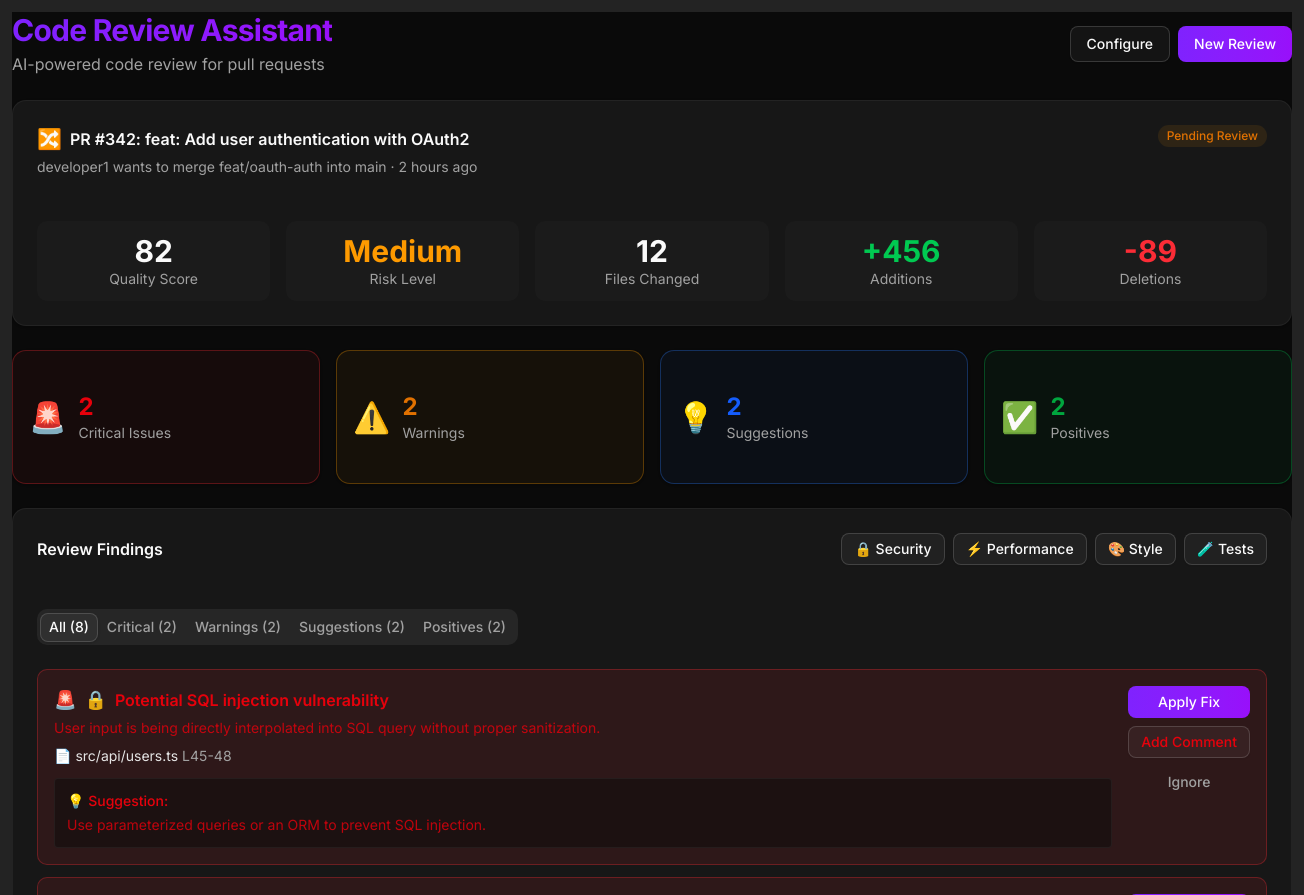
CodeReviewPage › applies fix
Click the button "Apply Fix" in the row of "Potential SQL injection vulnerability": (1189, 702) [1128,686,1250,718]
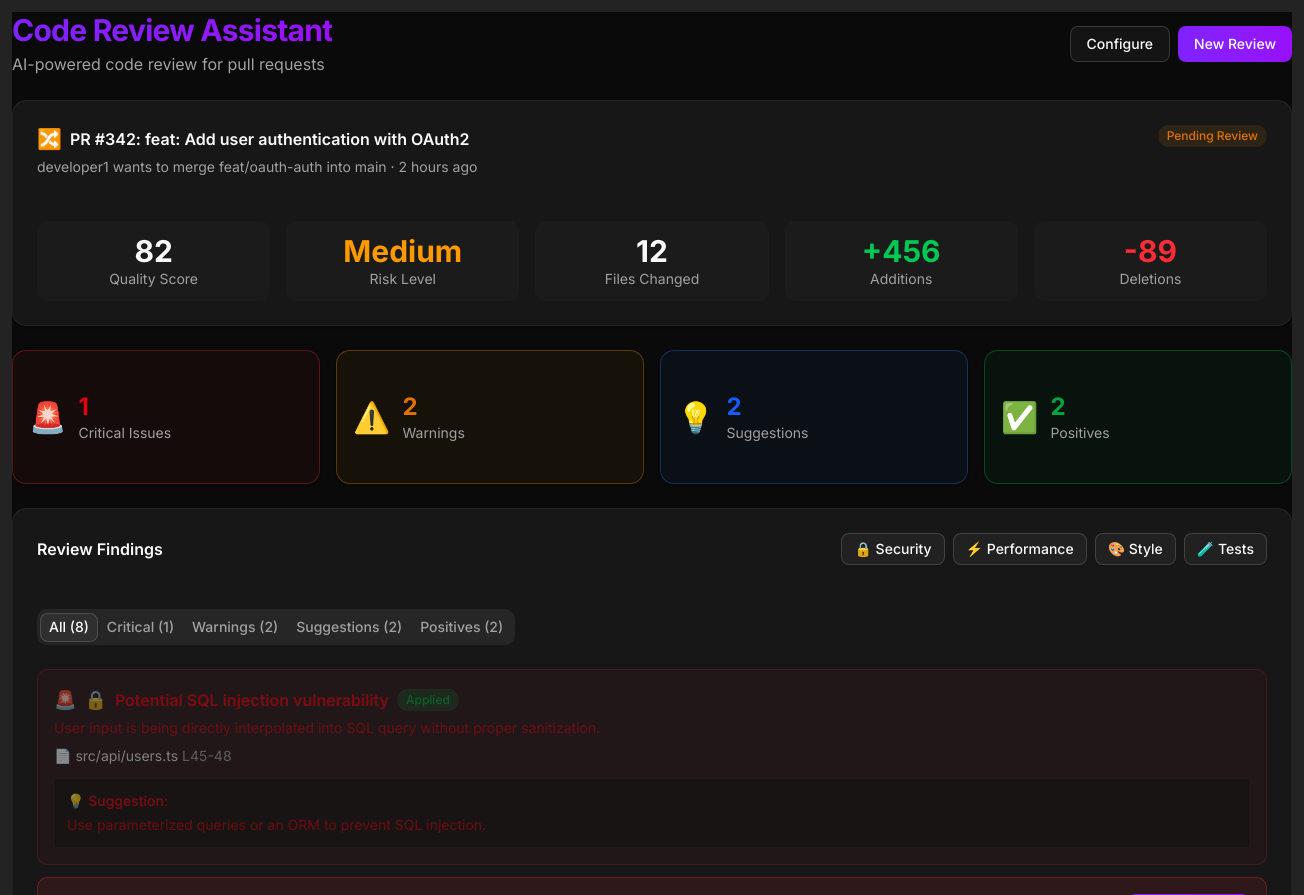
Now the text "Applied" is shown, box [397,689,459,711]
